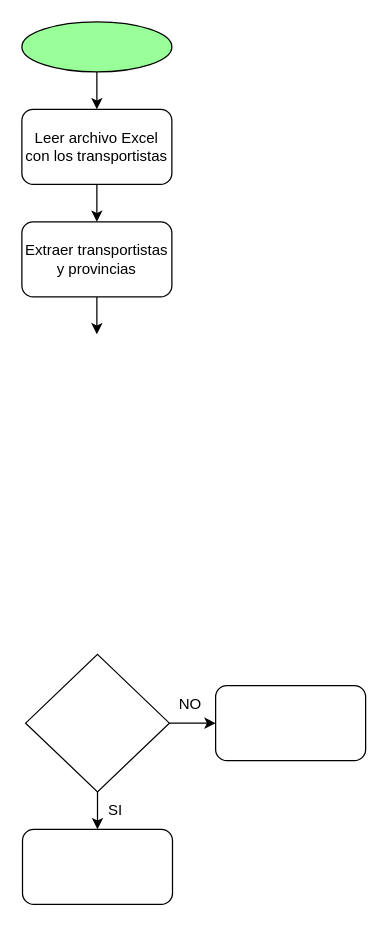
Some shapes in this 388 by 926 pixel diagram are drawn without their labels. The shapes that lost their labels are listed below. From the top down, each one's centre as x and y in pixels, then its label:
(x=96, y=46): START
(x=96, y=722): Es el último transportista ?
